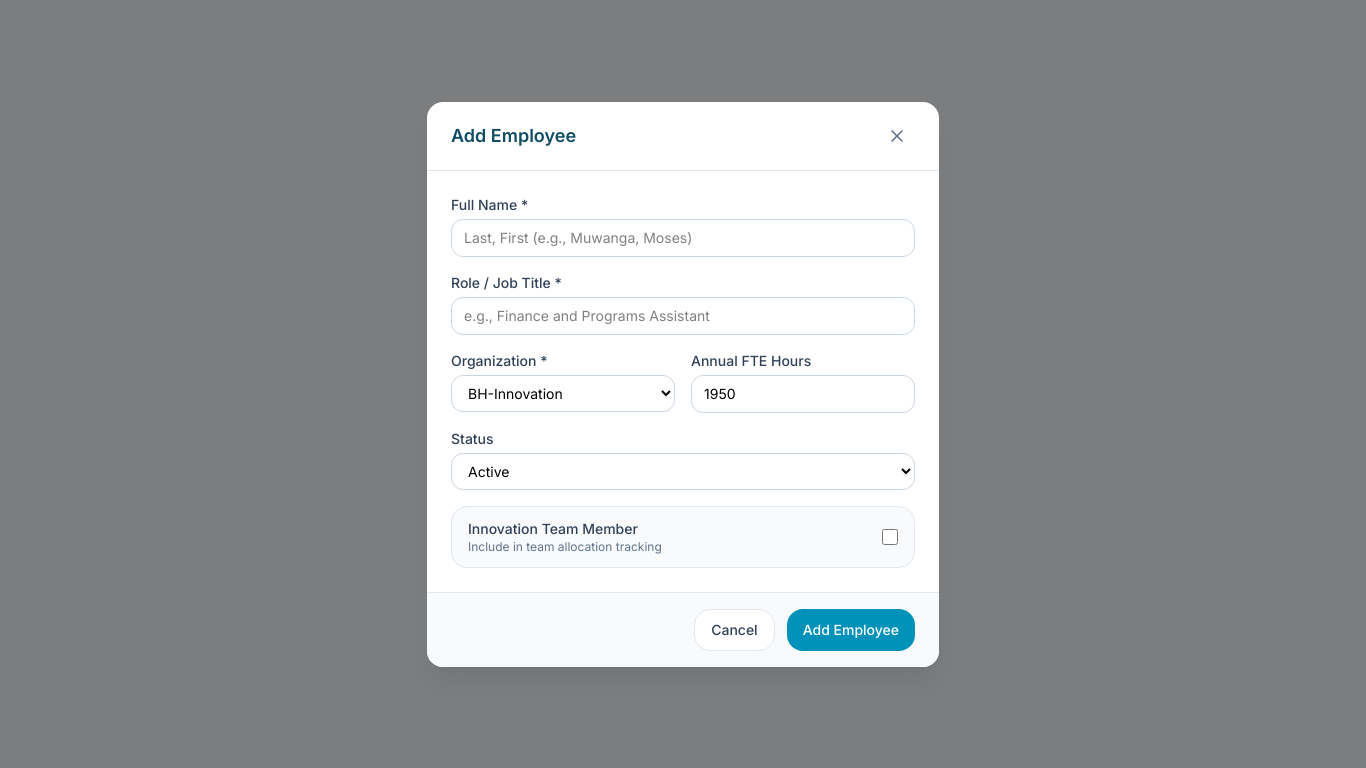
Test case: EmployeeFormModal › validates required fields
This screenshot has width=1366, height=768.
Click the button "Add Employee".
click(851, 630)  # box [787, 608, 915, 650]
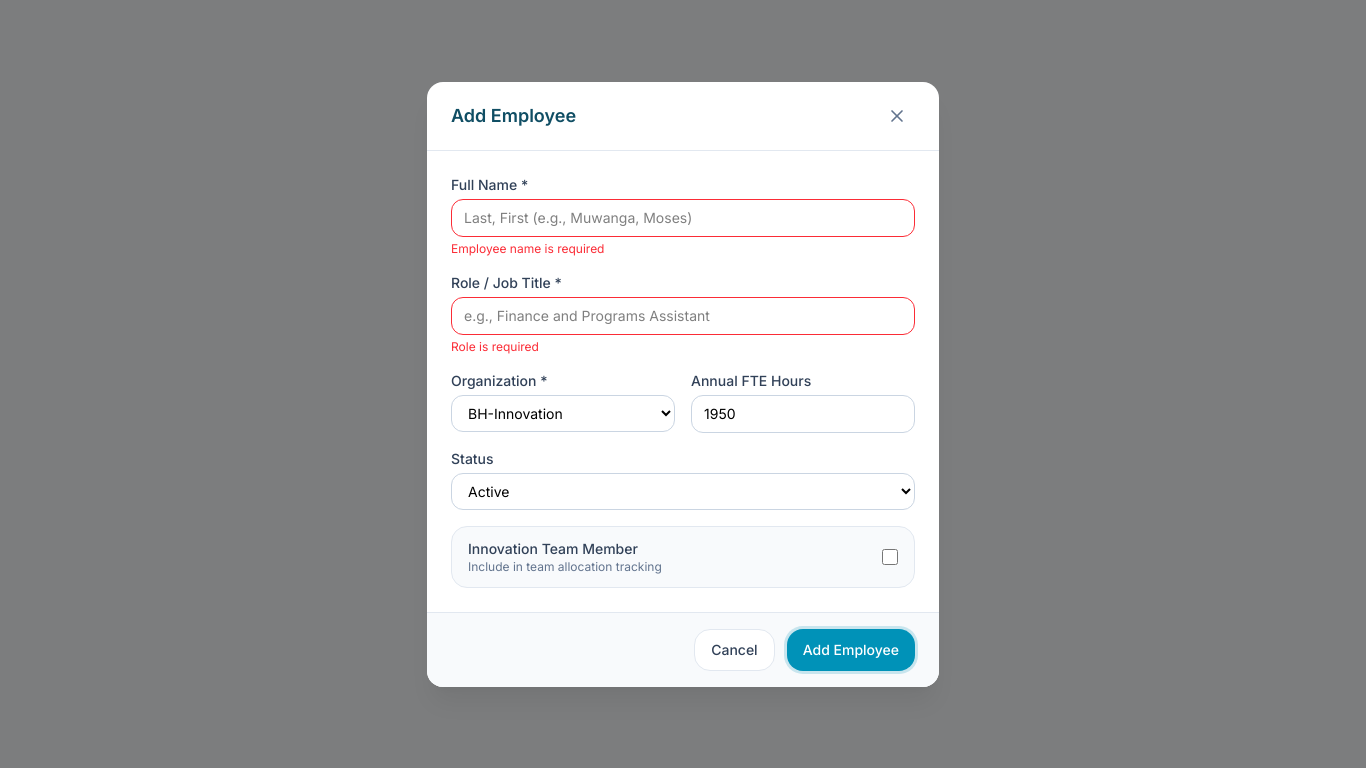
Check: the text "Employee name is required" is shown, box [451, 240, 604, 256]
Check: the text "Role is required" is shown, box [451, 338, 539, 354]
